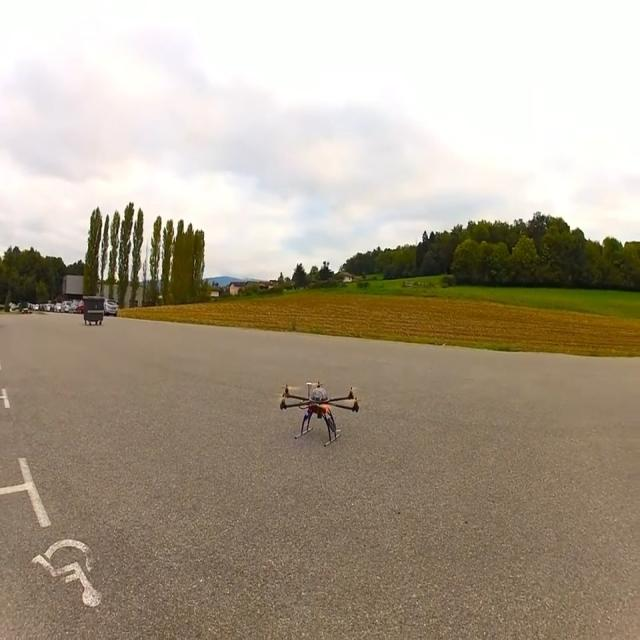drone: (279, 380, 359, 447)
